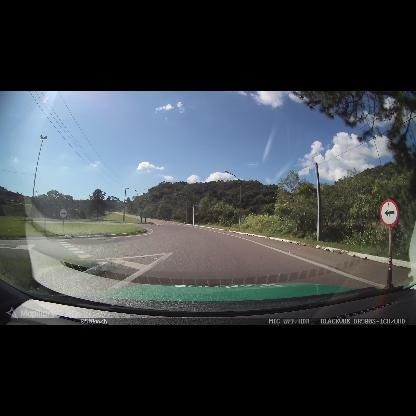R-24a: (379, 199, 399, 227), (59, 209, 67, 219)
